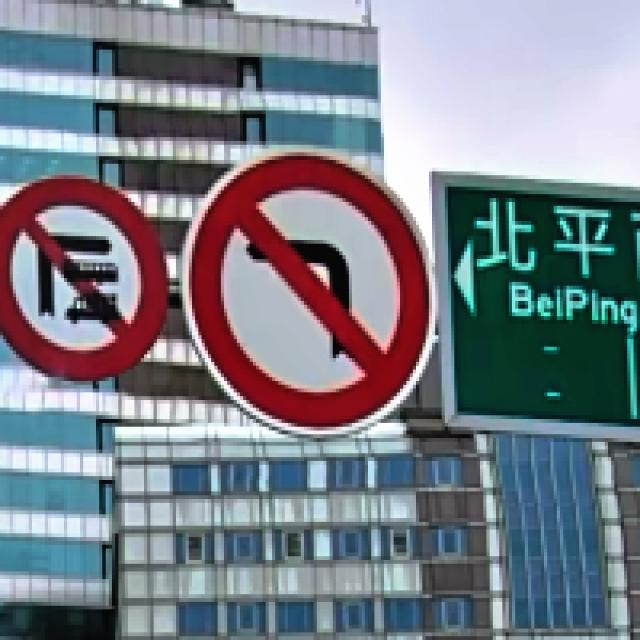noturnleft: (190, 154, 431, 431)
